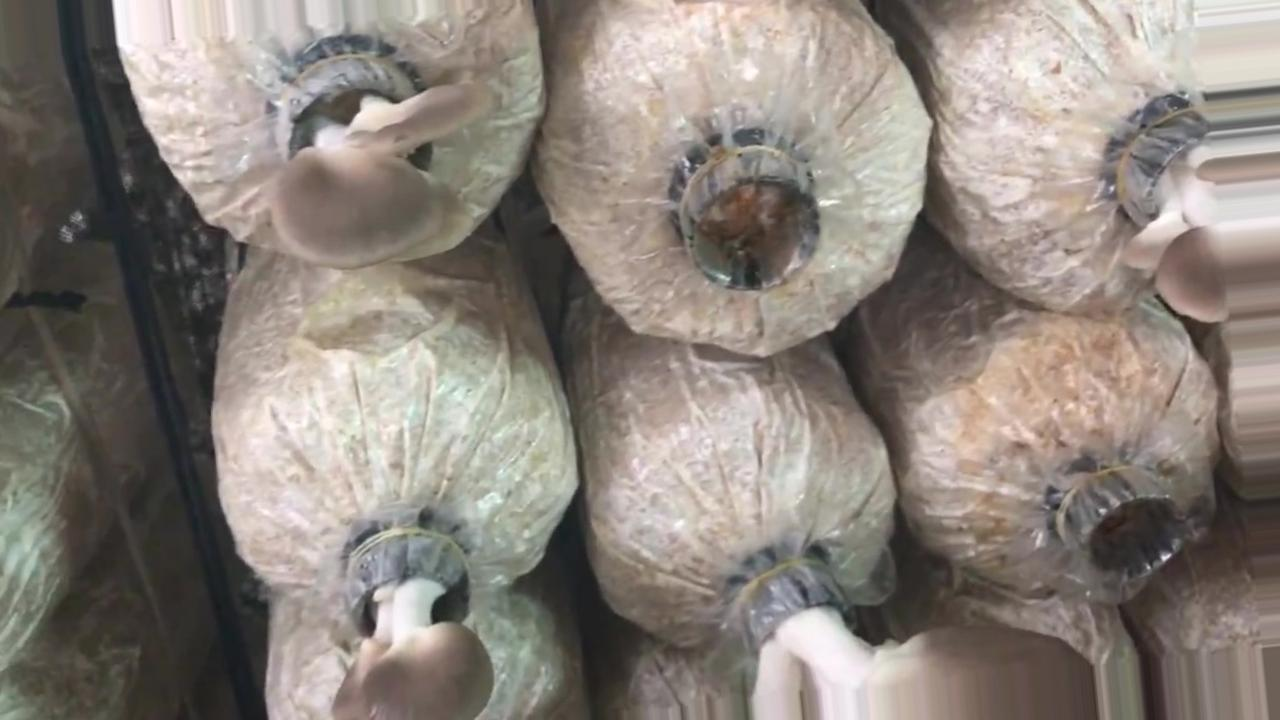nam: (755, 552, 1099, 720), (273, 38, 498, 273), (1125, 107, 1280, 319), (330, 524, 496, 720)
